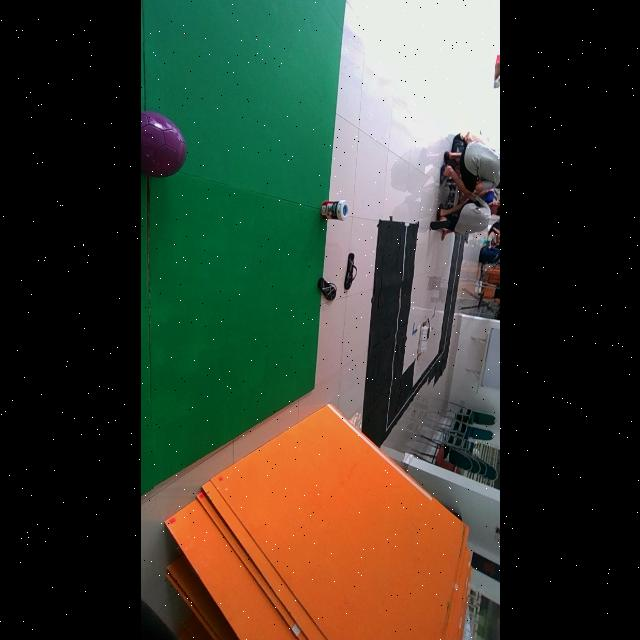P: (140, 111, 185, 177)
